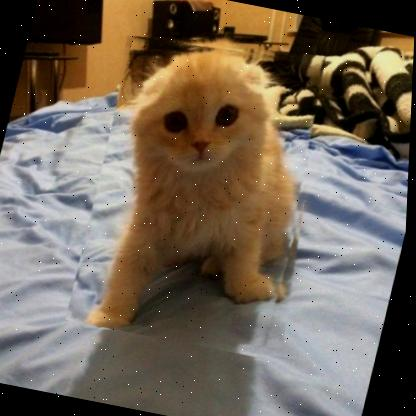cat: (63, 23, 345, 360)
